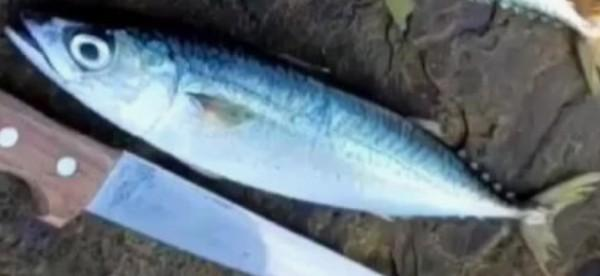fish: (6, 12, 598, 275)
